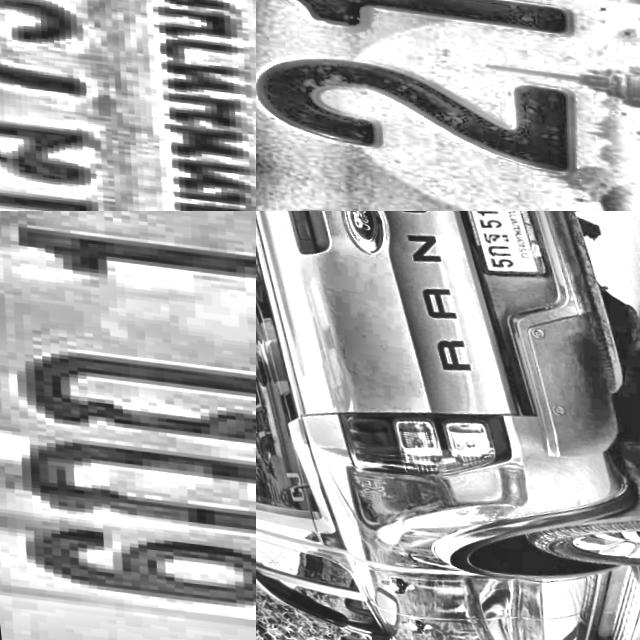license-plate: (0, 211, 256, 640), (256, 0, 640, 211), (0, 0, 256, 211), (447, 211, 550, 277)
